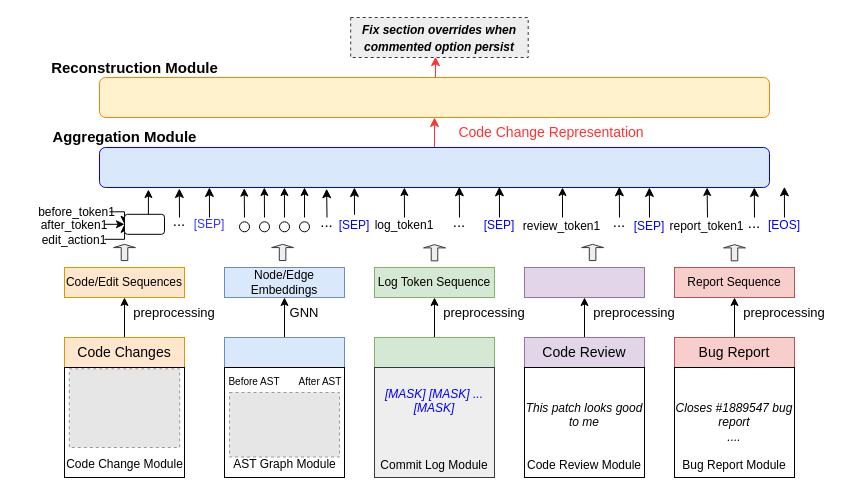
This 843x495 diagram has some shape labels left out. Grey dashed boxes stand in for pictures. The box of each missing label's shape, as (x1, y1, x2, y2) in pixels:
AST Mapping Graph: (224, 336, 344, 368)
Commit Logs: (374, 336, 494, 368)
DNN: (124, 213, 164, 234)
Review Sequence: (524, 266, 644, 298)
Transformer Decoder: (98, 76, 770, 118)
Transformer Encoder: (98, 146, 770, 188)
